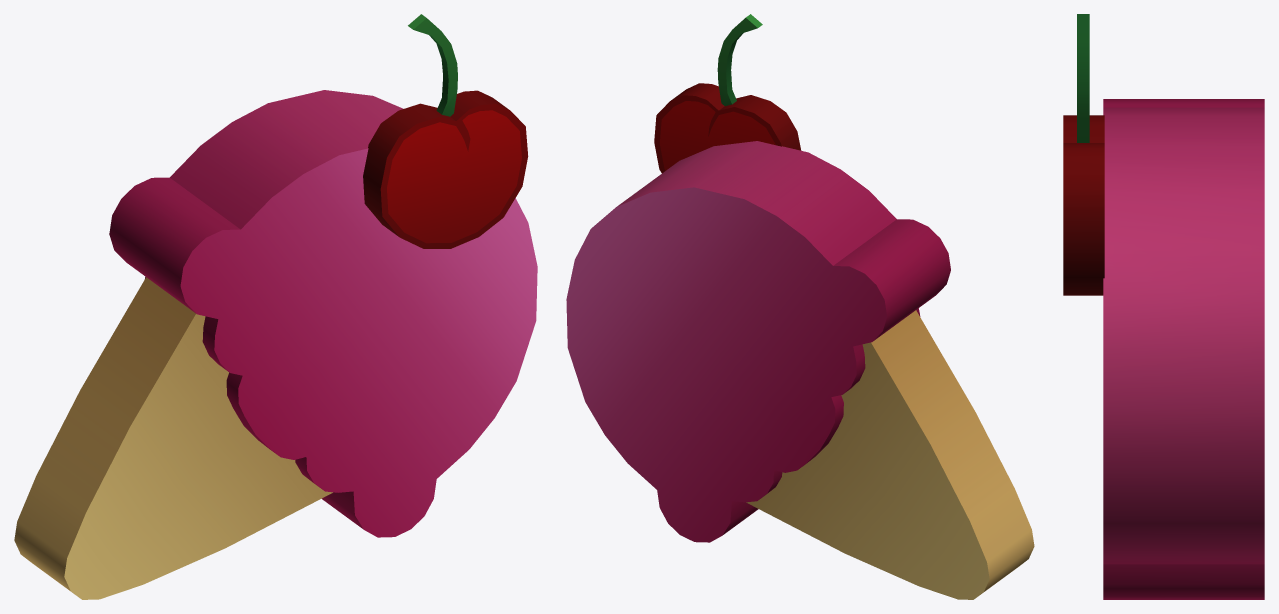
Rendered from Shop_IceCreamSign_01.fbx.
The picture shows the model from 3 angles, left to right: view 1: azimuth 30°, elevation 25°; view 2: azimuth 150°, elevation 25°; view 3: azimuth 270°, elevation 25°; orthographic projection. The views are drawn at different scales.
Visible parts, largest first — view 1: Shop_IceCreamSign_01; view 2: Shop_IceCreamSign_01; view 3: Shop_IceCreamSign_01.
Part boxes in pixels (x1,y1,x2,y2): Shop_IceCreamSign_01: [14, 14, 537, 599]; Shop_IceCreamSign_01: [566, 14, 1034, 599]; Shop_IceCreamSign_01: [1063, 14, 1264, 599].
Size of the model in its own units: 509 by 552 by 169.
2 materials, 2 textured.
